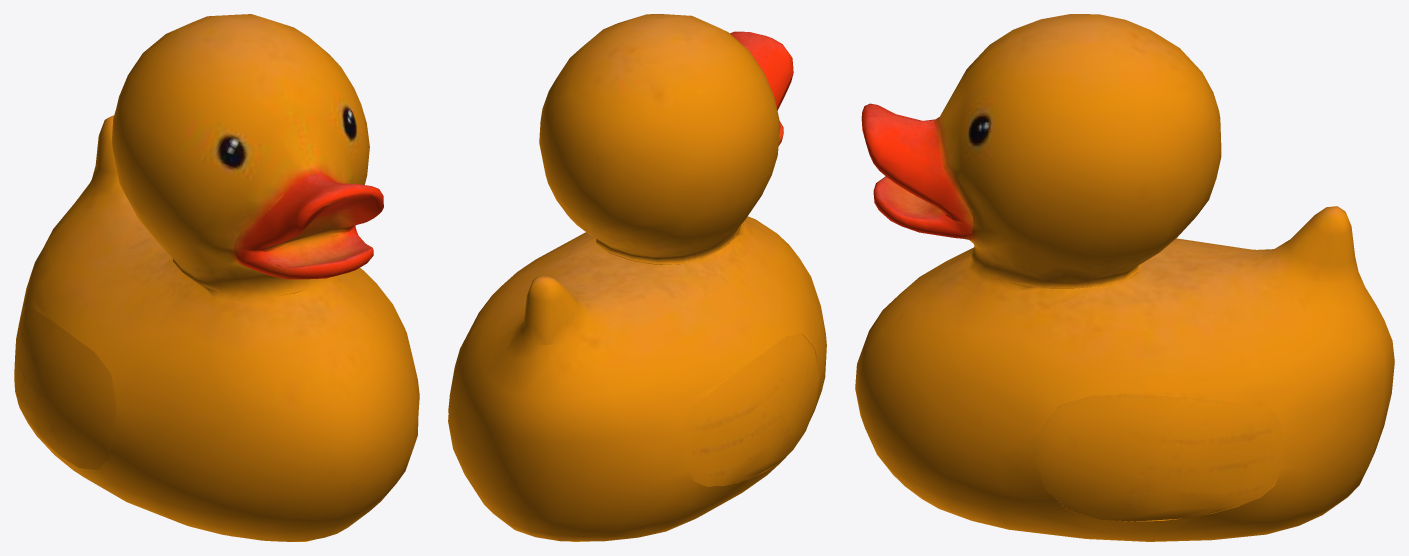
The model's file is x_rubber_duck.gltf.
3 views of the same model, side by side, from view 1: azimuth 30°, elevation 25°; view 2: azimuth 150°, elevation 25°; view 3: azimuth 270°, elevation 25° (orthographic). The views are drawn at different scales.
Visible parts, largest first — view 1: x_rubber_duck; view 2: x_rubber_duck; view 3: x_rubber_duck.
Boxes of the visible parts, x1=… form: x_rubber_duck: x1=14, y1=14, x2=419, y2=541; x_rubber_duck: x1=448, y1=14, x2=826, y2=541; x_rubber_duck: x1=855, y1=14, x2=1394, y2=541.
Size of the model in its own units: 0.2136 by 0.2855 by 0.3.
1 material, 1 textured.
